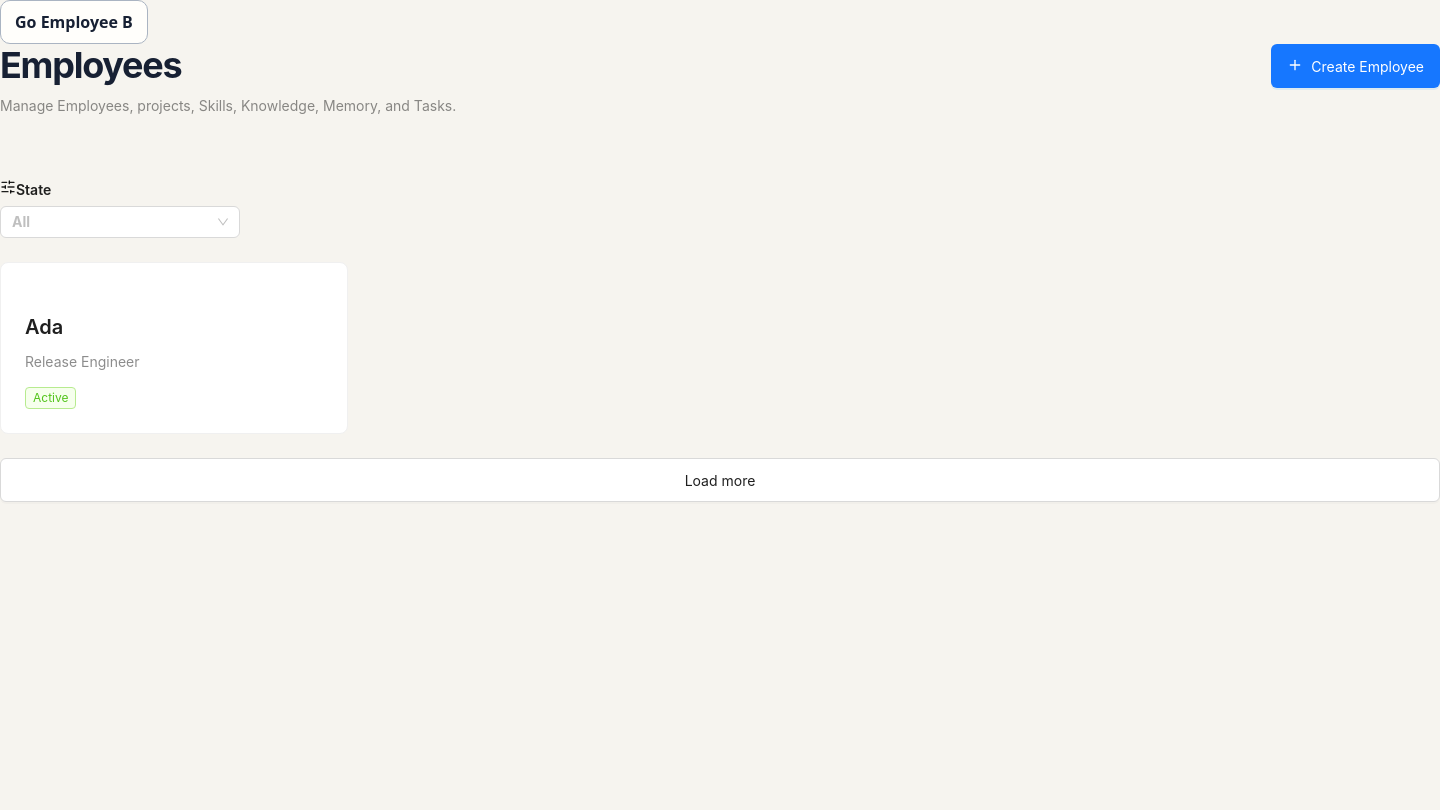
Employees Phase 4 pages › validates required identity fields before advancing the creation wizard
Click the button "Create Employee" at (1356, 66), box [1271,44,1439,88]
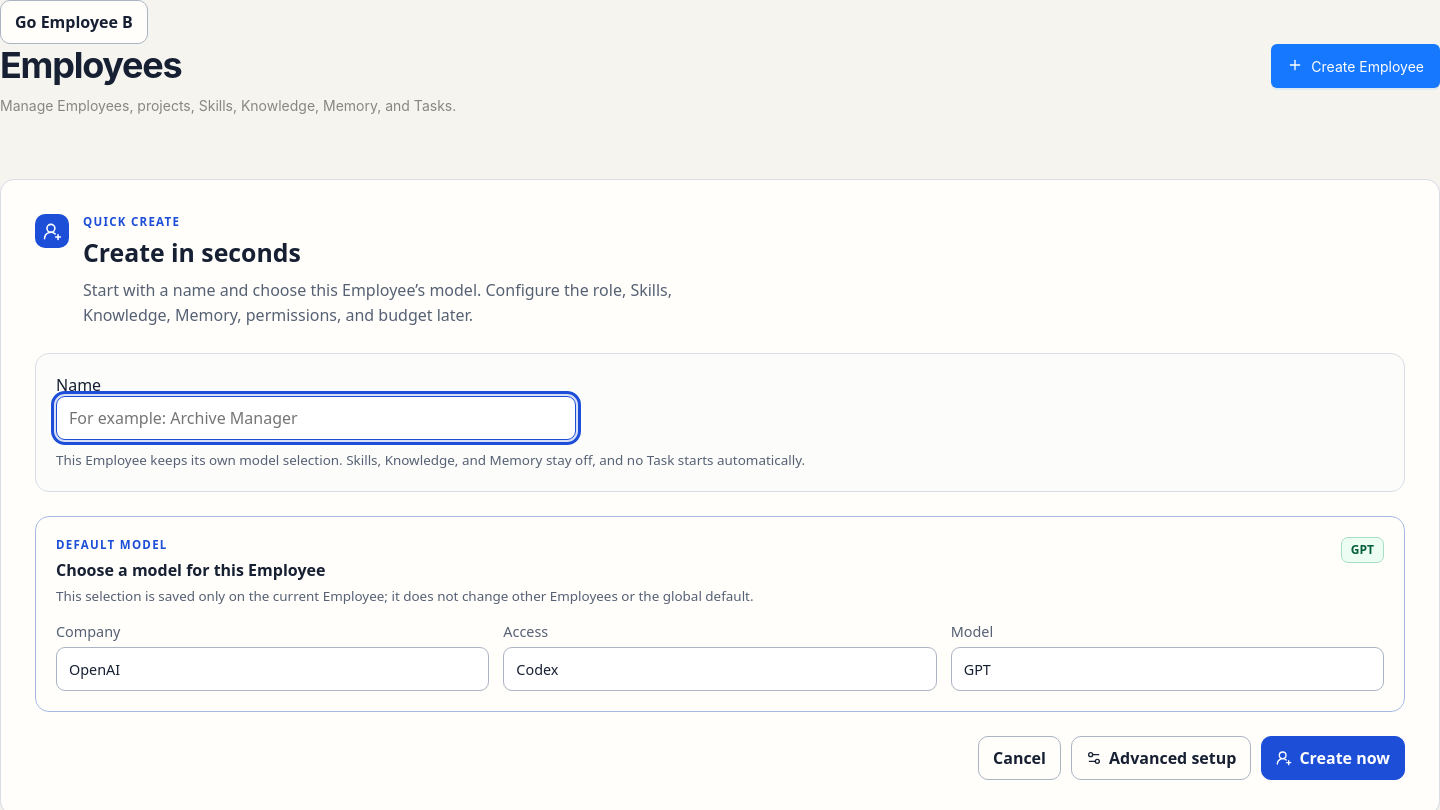
Click the button "Advanced setup" at (1161, 758), box [1071,736,1251,780]
(page scrolled)
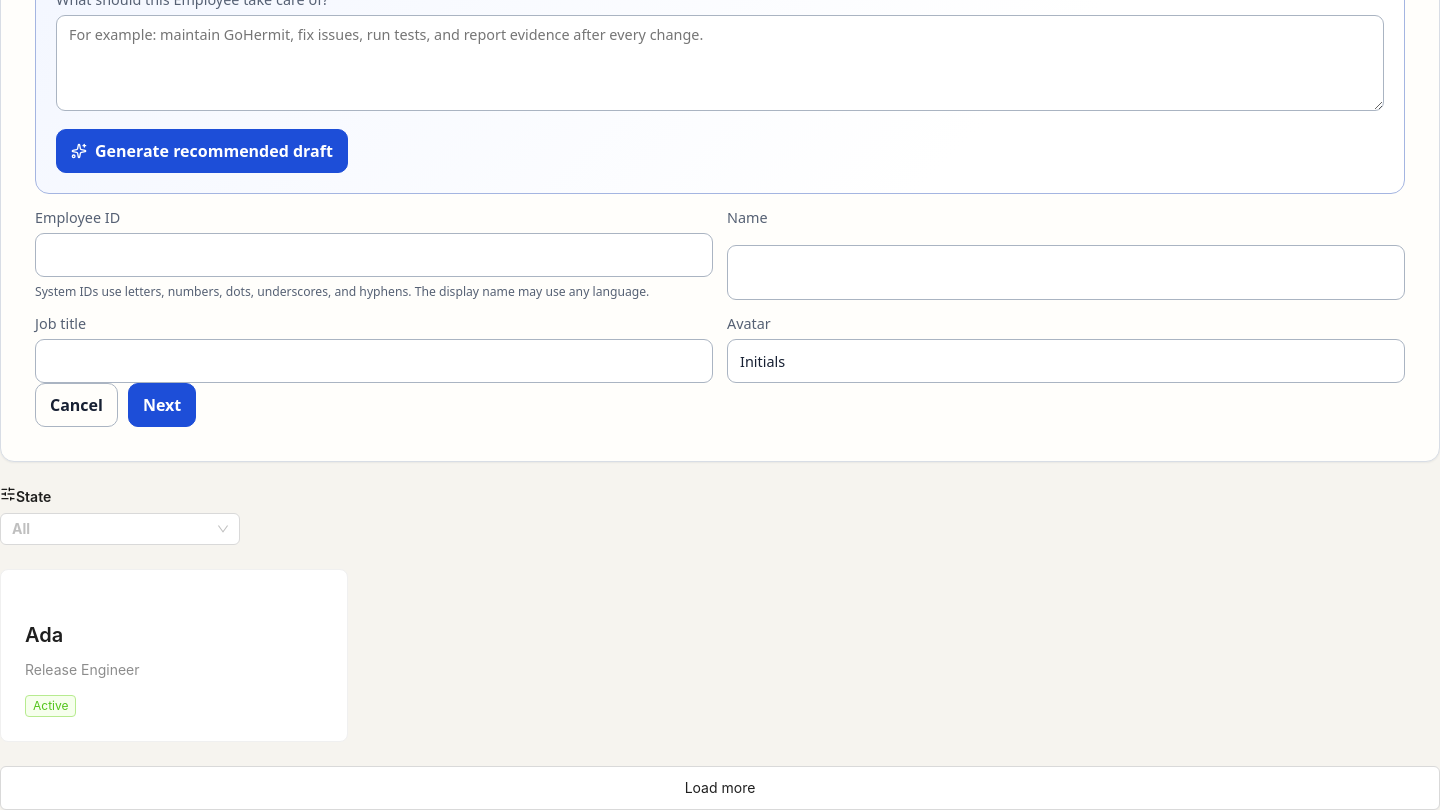
Click the button "Next" at (162, 405), box [128,383,196,427]
(page scrolled)
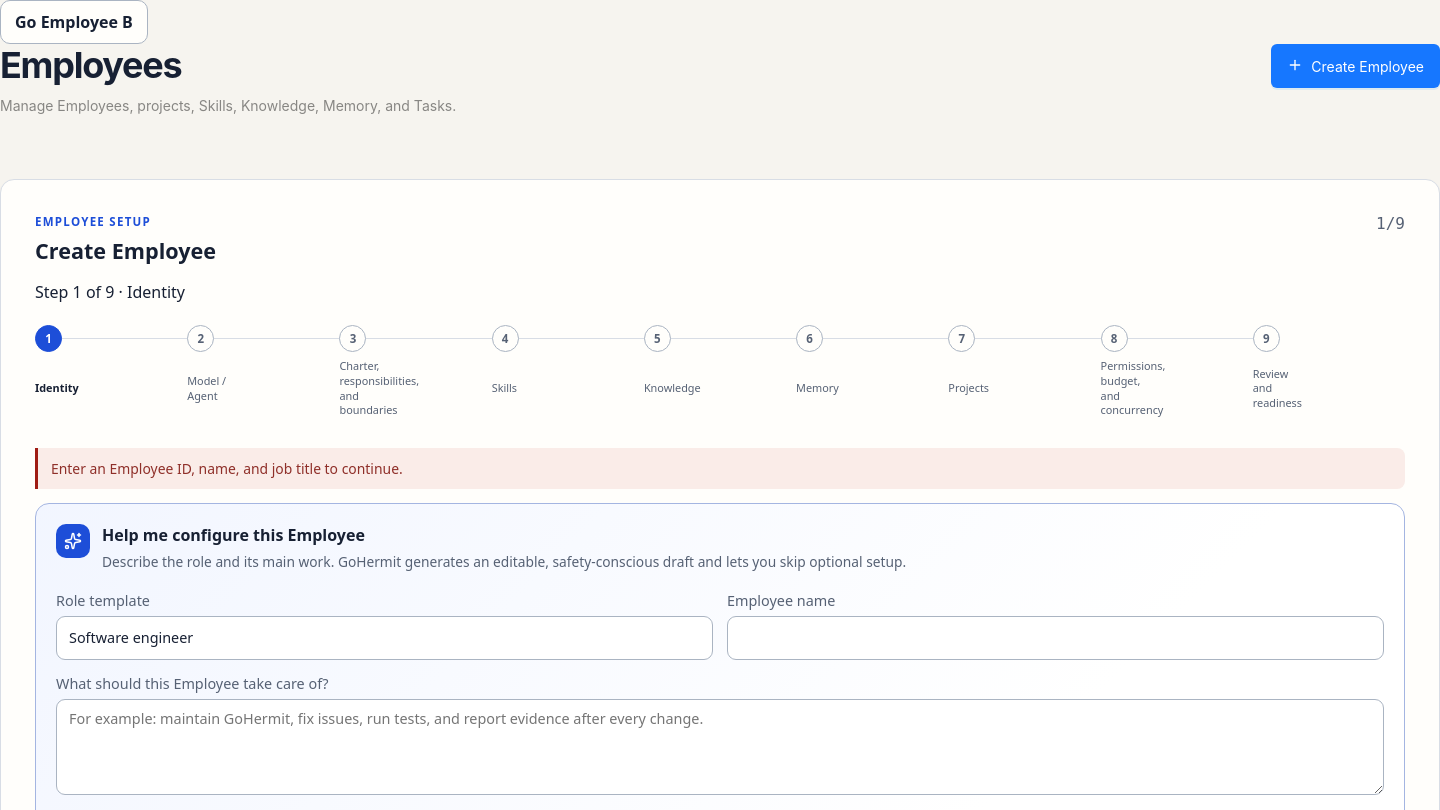
Expected: the text with test id "employee-wizard-step" shows "Step 1 of 9", [35,281,114,303]
Expected: the message reads "Enter an Employee ID, name, and job title to continue.", [51,459,403,478]
